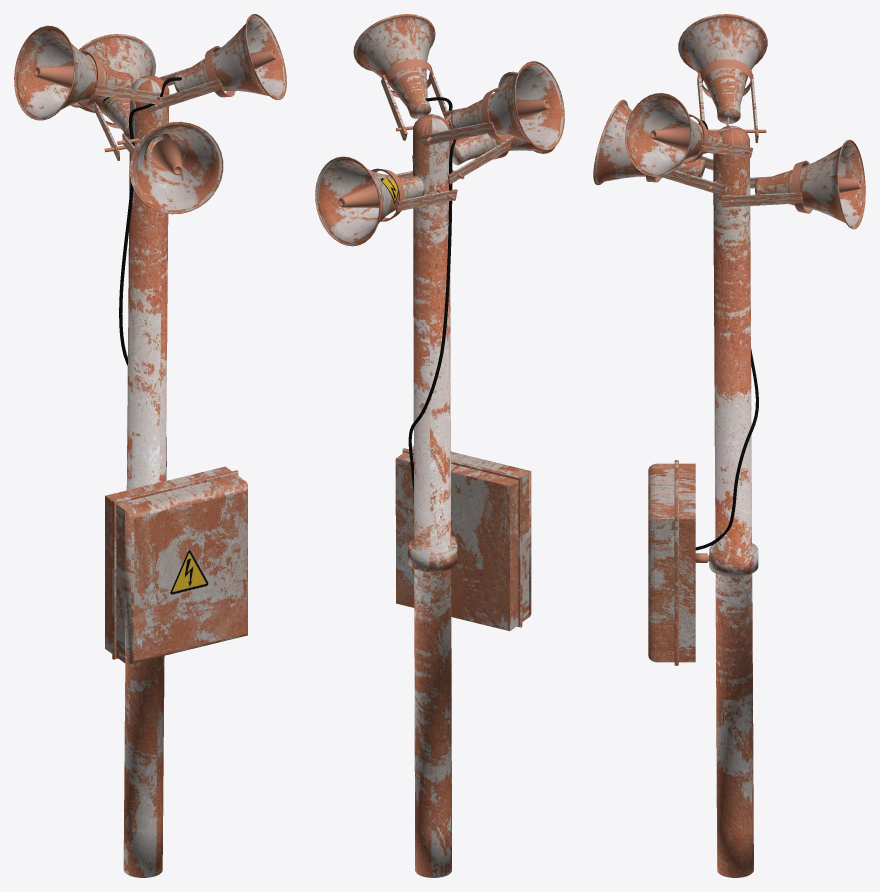
The model's file is kjdthgmortsfunkiii.glb.
3 renders of one model, left to right at view 1: azimuth 30°, elevation 25°; view 2: azimuth 150°, elevation 25°; view 3: azimuth 270°, elevation 25°, orthographic. The views are drawn at different scales.
Visible parts, largest first — view 1: pfosten; view 2: pfosten; view 3: pfosten.
Part boxes in pixels (x1,y1,x2,y2): pfosten: [14, 14, 286, 877]; pfosten: [315, 14, 564, 877]; pfosten: [593, 14, 865, 877].
Size of the model in its own units: 0.7324 by 2.62 by 0.7924.
3 materials, 2 textured.
